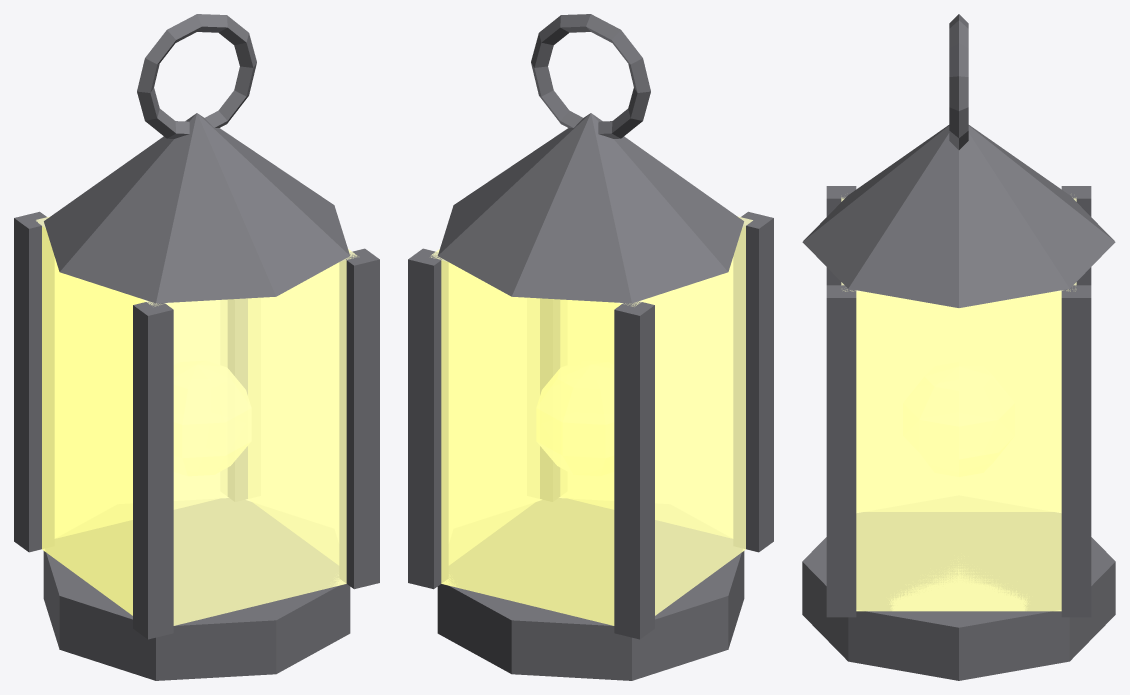
File: std_lantern.glb
3 renders of one model, left to right at view 1: azimuth 30°, elevation 25°; view 2: azimuth 150°, elevation 25°; view 3: azimuth 270°, elevation 25°, orthographic.
Parts seen in each view (by area): view 1: std_lantern; view 2: std_lantern; view 3: std_lantern.
Boxes of the visible parts, x1,y1,x2,y2 form: std_lantern: [14, 14, 379, 680]; std_lantern: [408, 14, 773, 680]; std_lantern: [802, 14, 1115, 680].
Bounding box in the file's own units: 0.16 × 0.335 × 0.16.
